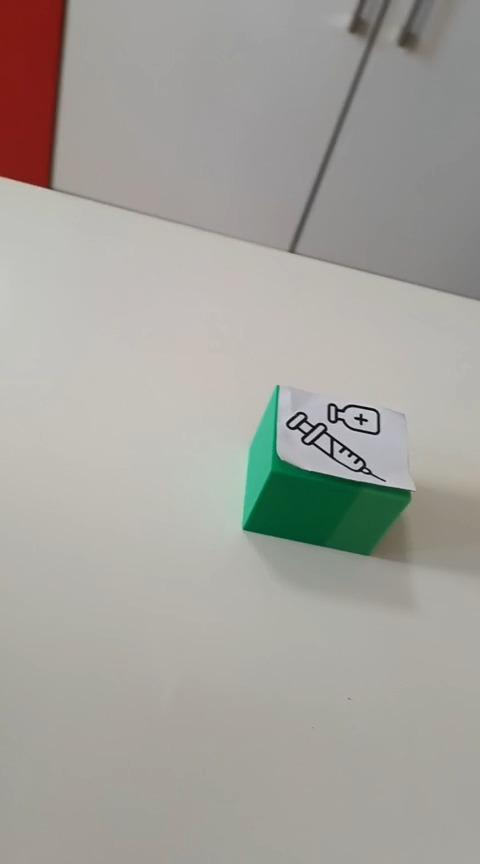antiseptic cream: (240, 382, 417, 556)
